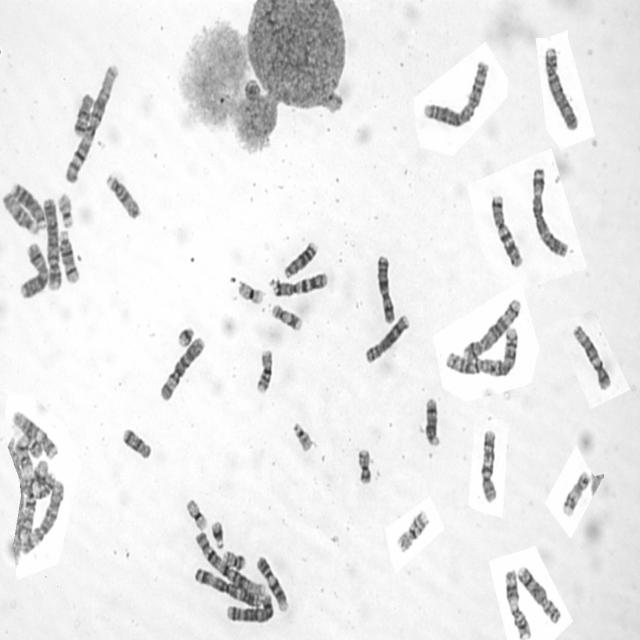A1: (63, 60, 121, 186), (193, 526, 266, 601)
A2: (420, 58, 491, 128), (442, 324, 520, 380)
A3: (529, 163, 570, 259), (190, 562, 264, 604)
B4: (542, 43, 580, 132), (41, 193, 62, 291)
B5: (461, 295, 524, 362), (224, 591, 276, 624)
C10: (477, 426, 500, 506), (18, 476, 38, 552)
C11: (502, 566, 532, 639), (27, 456, 58, 499)
C12: (570, 320, 612, 391), (10, 408, 59, 461)
C6: (17, 479, 65, 557), (157, 333, 206, 402)
C7: (488, 191, 524, 269), (270, 269, 328, 297)
C8: (515, 562, 563, 625), (362, 311, 410, 364)
C9: (255, 552, 289, 613), (14, 433, 45, 479)
D13: (9, 178, 46, 230), (282, 238, 318, 280)
D14: (56, 227, 80, 285), (422, 394, 442, 449)
D15: (1, 191, 44, 238), (104, 172, 142, 220)
E16: (395, 506, 430, 553), (253, 345, 274, 395)
E17: (559, 468, 591, 518), (269, 301, 305, 333)
E18: (120, 424, 152, 461), (72, 90, 95, 139)
F19: (234, 277, 266, 306), (184, 496, 208, 532)
F20: (354, 444, 374, 486), (221, 547, 247, 571)
G21: (175, 323, 196, 349), (209, 518, 226, 550)
G22: (288, 418, 316, 454), (56, 190, 76, 230)
X: (17, 240, 49, 300), (374, 251, 396, 325)
